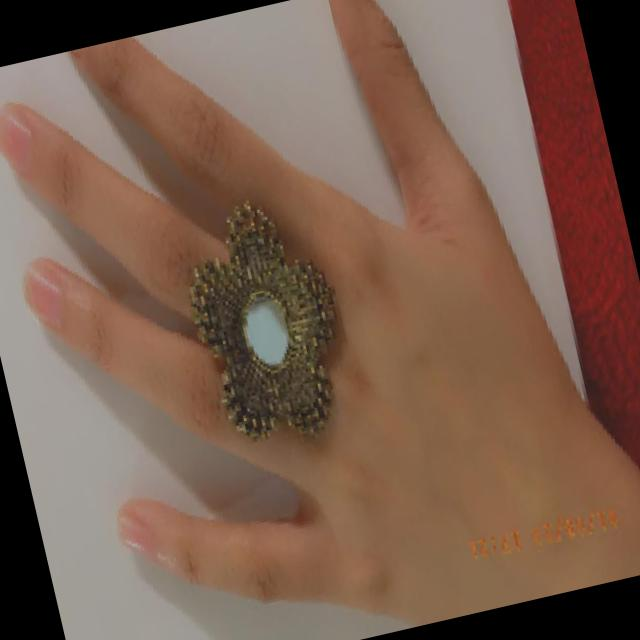Nail: (24, 266, 64, 328), (0, 111, 31, 171), (118, 510, 151, 554)
